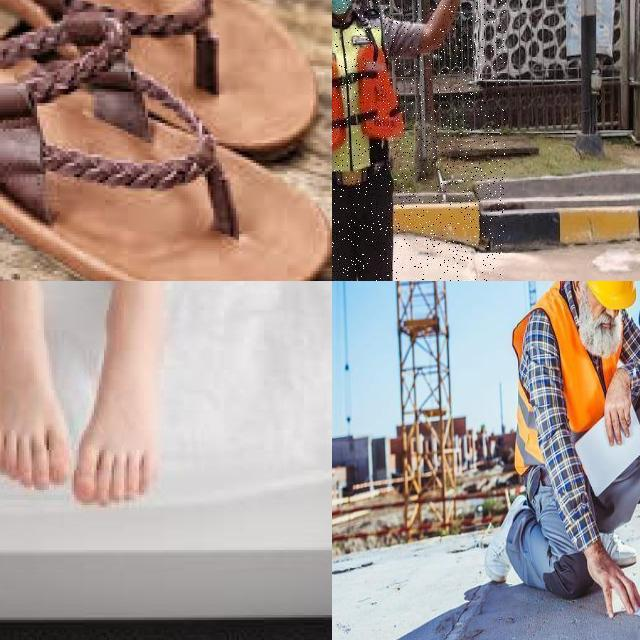Barefoots: (64, 288, 179, 517), (0, 281, 81, 498)
Sandals: (0, 0, 332, 281)
hand_noglove: (574, 534, 640, 613), (602, 363, 640, 445)
head_helmet: (567, 281, 640, 311)
person: (332, 0, 506, 281), (506, 281, 640, 606)
vest: (507, 298, 624, 472), (332, 16, 405, 172)
